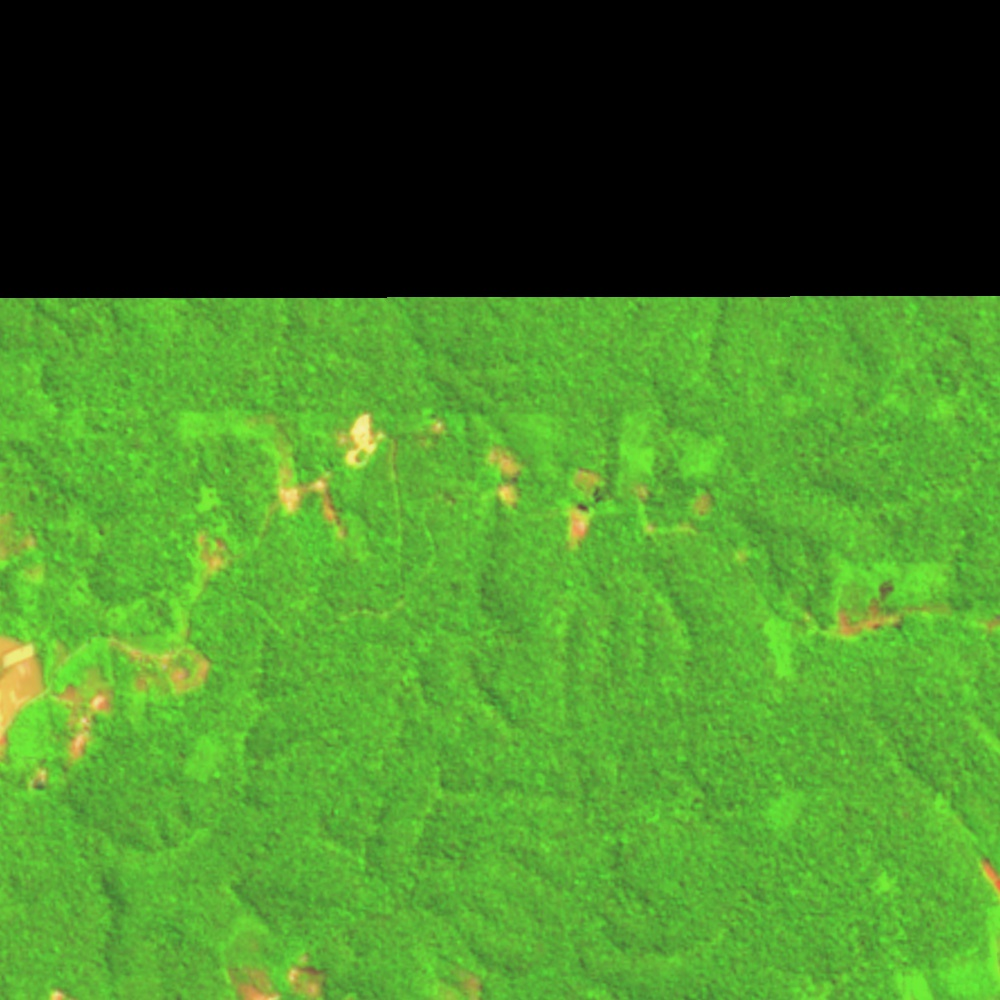legal: (1, 511, 237, 796), (476, 426, 739, 549), (230, 406, 447, 548), (761, 558, 1000, 681), (221, 951, 324, 1000), (426, 956, 492, 1000), (977, 853, 1000, 899), (47, 985, 76, 1000)
